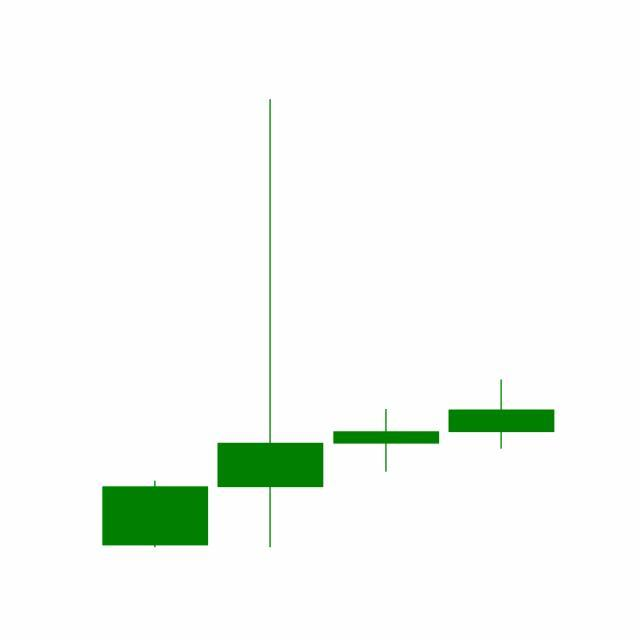Spinning Top: (329, 408, 445, 473)
